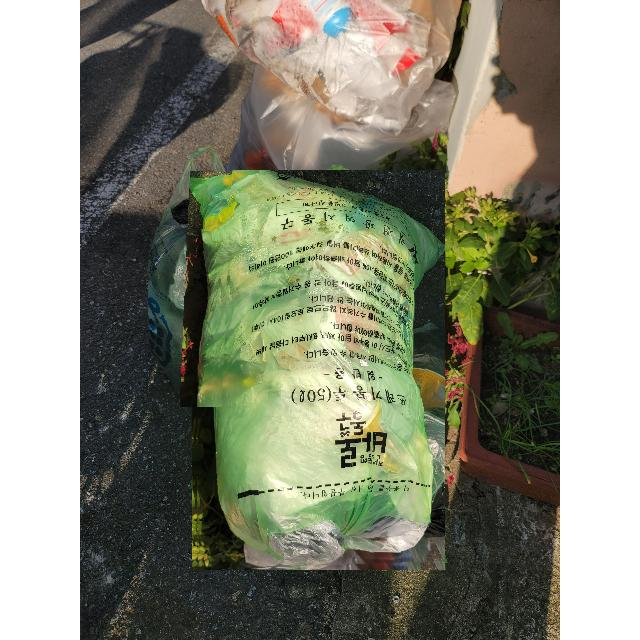general_trashbag: (192, 170, 445, 567), (148, 149, 232, 407)
